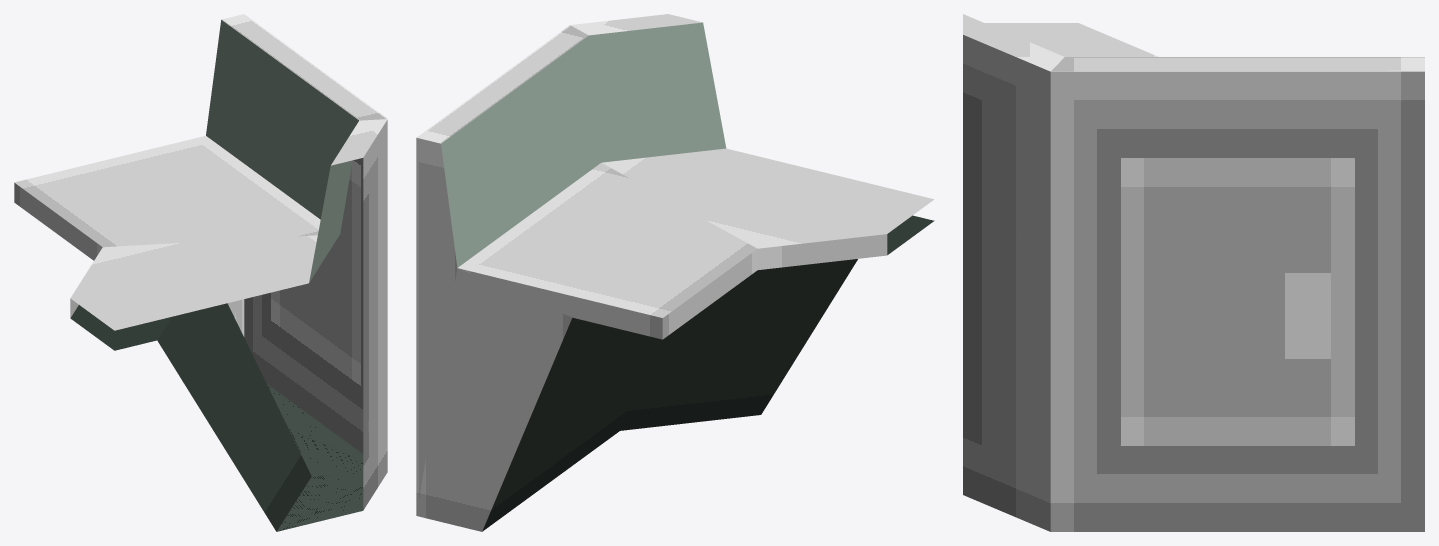
File: desk_corner_inside_deep_left.obj
The picture shows the model from 3 angles, left to right: view 1: azimuth 30°, elevation 25°; view 2: azimuth 150°, elevation 25°; view 3: azimuth 270°, elevation 25°; orthographic projection. The views are drawn at different scales.
Bounding box in the file's own units: 1 × 1.1 × 1.
